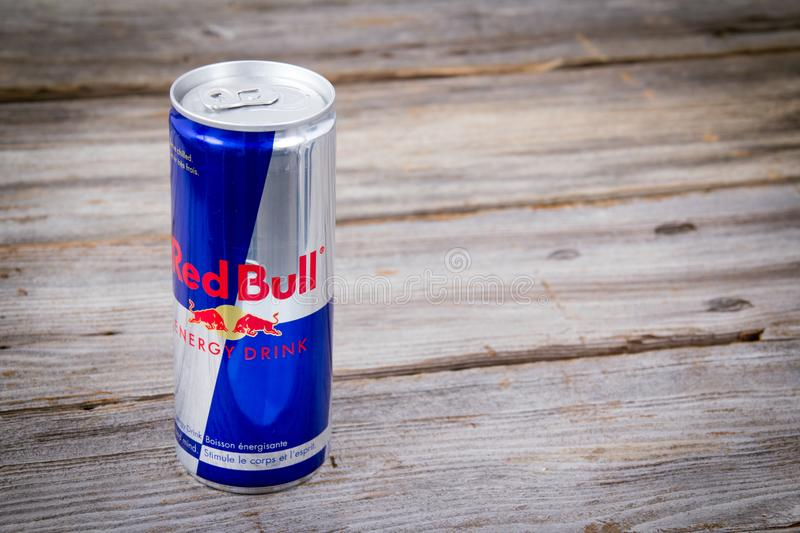redbull: (162, 50, 341, 495)
